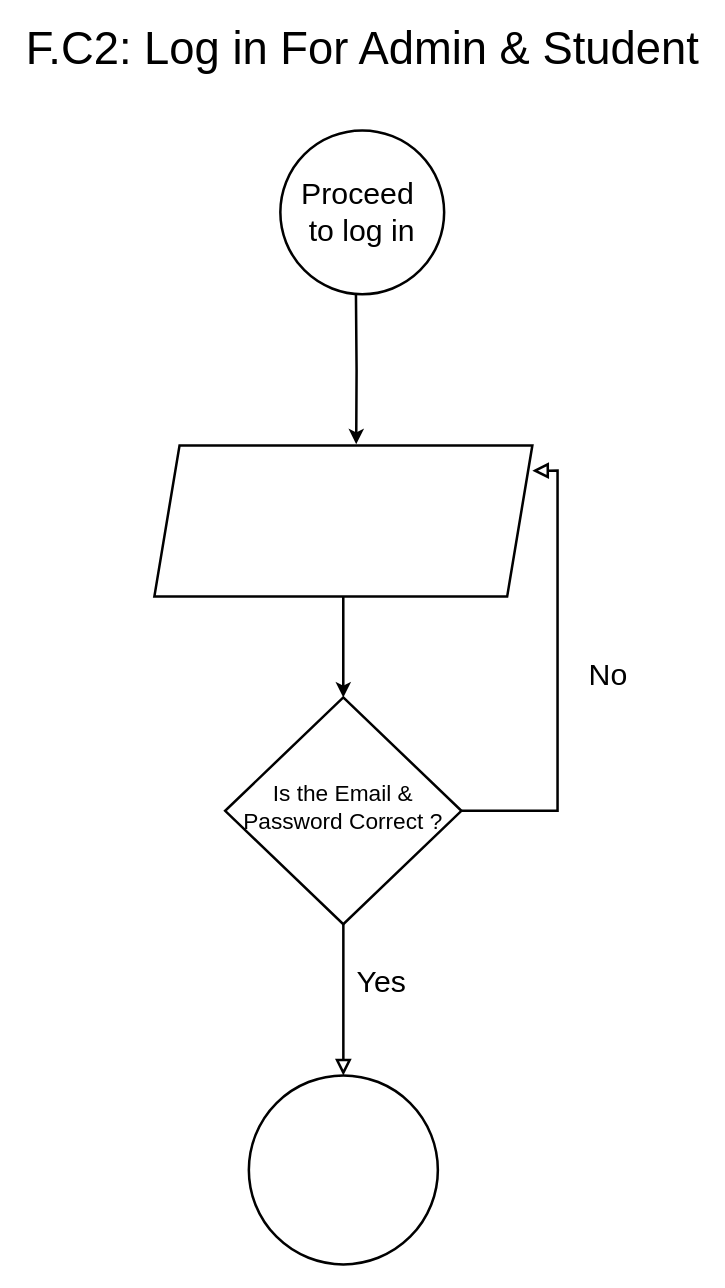
This 725x1288 diagram has some shape labels left out. The shapes that lost their labels are listed below. From the top down, each one's centre as x and y in pixels, then its label:
pixel 342 520: Email Password
pixel 342 1169: Logged In
